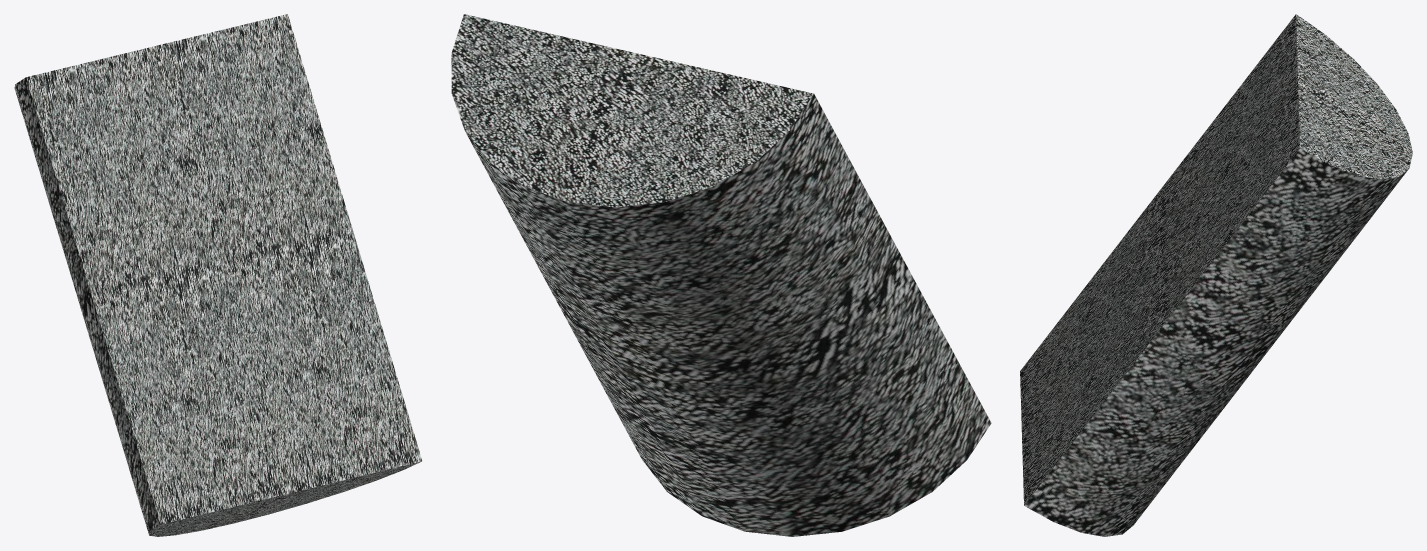
Rendered from Dino_Jaw_130-111--026__0cb9f24e-f9b8-40f7-82e6-d2ed18c30de9.dae.
3 renders of one model, left to right at view 1: azimuth 30°, elevation 25°; view 2: azimuth 150°, elevation 25°; view 3: azimuth 270°, elevation 25°, orthographic. The views are drawn at different scales.
Visible parts, largest first — view 1: Dino_Jaw; view 2: Dino_Jaw; view 3: Dino_Jaw.
Boxes of the visible parts, bbox=[...] form: Dino_Jaw: bbox=[14, 14, 422, 536]; Dino_Jaw: bbox=[451, 14, 991, 536]; Dino_Jaw: bbox=[1020, 14, 1412, 536].
Size of the model in its own units: 0.2315 by 0.2915 by 0.3531.
